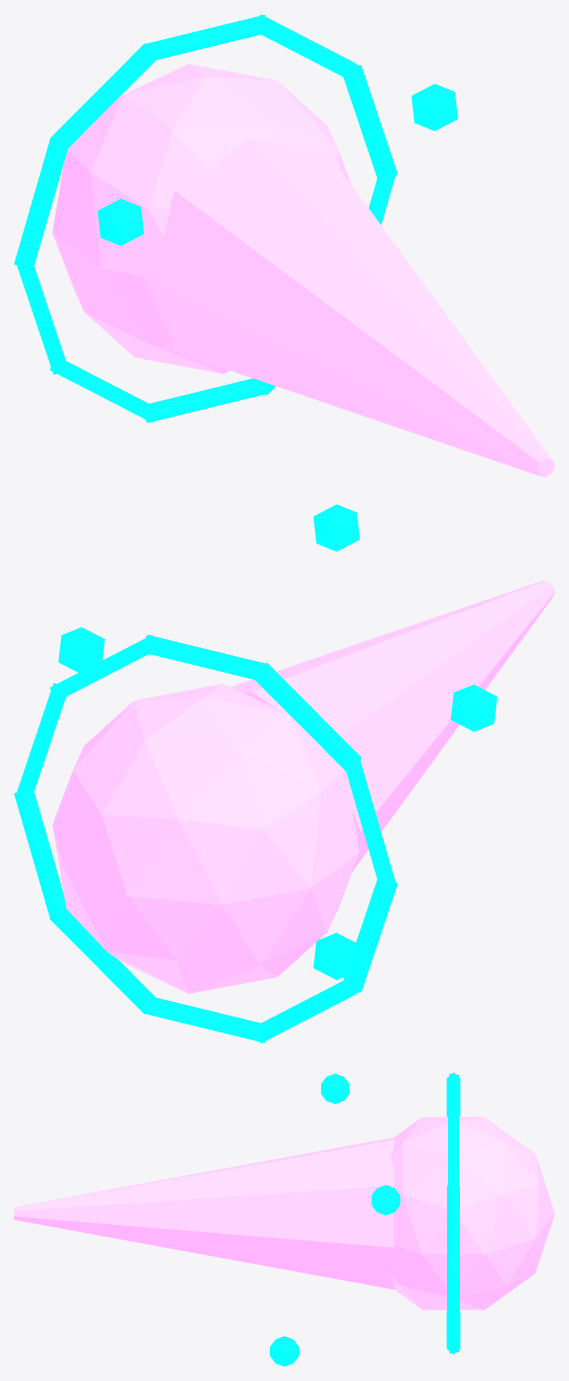
The model's file is Proj_PlasmaShell.fbx.
The picture shows the model from 3 angles, top to bottom: view 1: azimuth 30°, elevation 25°; view 2: azimuth 150°, elevation 25°; view 3: azimuth 270°, elevation 25°; orthographic projection. The views are drawn at different scales.
Parts seen in each view (by area): view 1: Plasma_Tail, Plasma_Shell, Plasma_Ring, Plasma_Mote0, Plasma_Mote1, Plasma_Mote2; view 2: Plasma_Shell, Plasma_Tail, Plasma_Ring, Plasma_Mote1, Plasma_Mote0, Plasma_Mote2; view 3: Plasma_Tail, Plasma_Shell, Plasma_Ring, Plasma_Mote0, Plasma_Mote1, Plasma_Mote2.
Boxes of the visible parts, <box> form: Plasma_Tail: <box>143,138,554,477</box>; Plasma_Shell: <box>52,64,351,373</box>; Plasma_Ring: <box>14,14,397,422</box>; Plasma_Mote0: <box>411,84,457,130</box>; Plasma_Mote1: <box>97,199,143,245</box>; Plasma_Mote2: <box>313,504,359,551</box>; Plasma_Shell: <box>52,684,359,993</box>; Plasma_Tail: <box>230,580,554,871</box>; Plasma_Ring: <box>14,634,397,1043</box>; Plasma_Mote1: <box>450,684,497,731</box>; Plasma_Mote0: <box>58,627,104,672</box>; Plasma_Mote2: <box>313,933,355,979</box>; Plasma_Tail: <box>14,1137,394,1289</box>; Plasma_Shell: <box>389,1117,554,1309</box>; Plasma_Ring: <box>446,1072,460,1354</box>; Plasma_Mote0: <box>371,1185,400,1215</box>; Plasma_Mote1: <box>321,1073,349,1103</box>; Plasma_Mote2: <box>270,1336,298,1366</box>.
Bounding box in the file's own units: 0.1738 × 0.1801 × 0.32.
